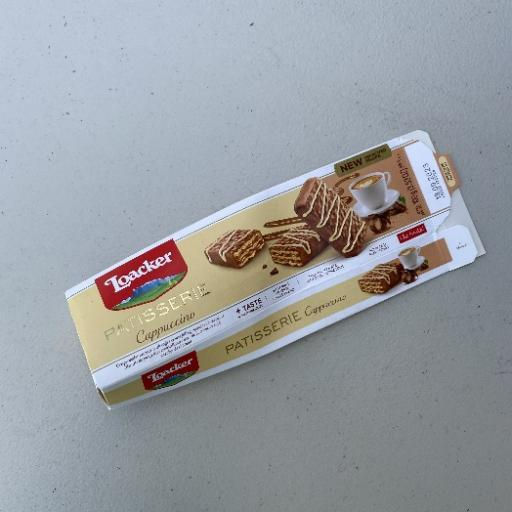Cardboard: (62, 129, 484, 409)
